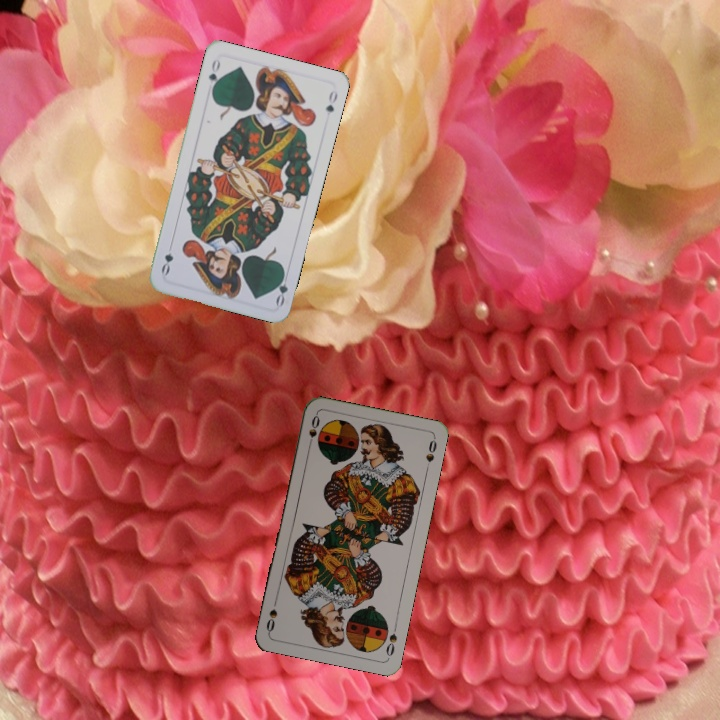GO: (271, 267, 291, 308), (204, 55, 223, 95)
SO: (304, 411, 322, 451), (382, 619, 400, 659)
